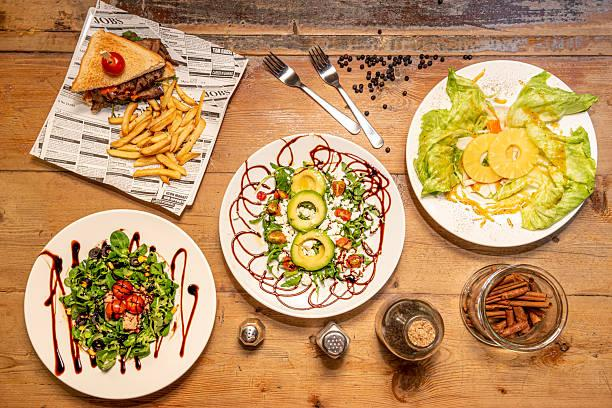Braised Crucian Carp: (31, 2, 247, 216), (24, 209, 216, 401), (404, 59, 595, 249), (218, 133, 405, 318)
